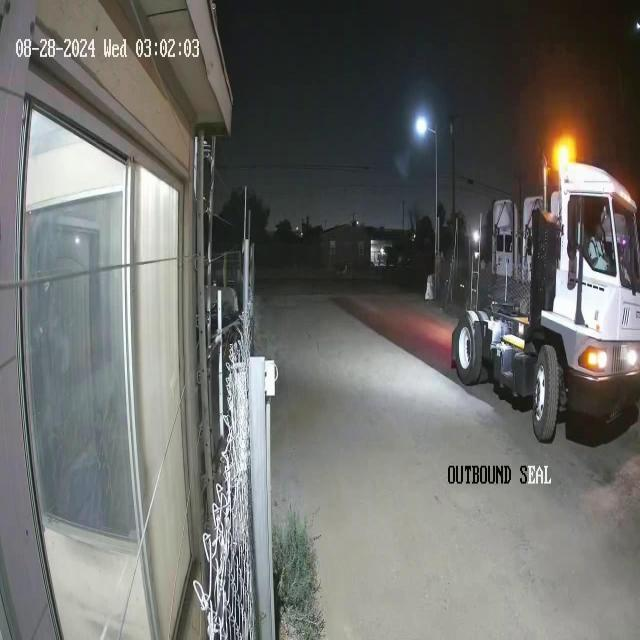TRUCK_IN: (450, 146, 640, 444)
